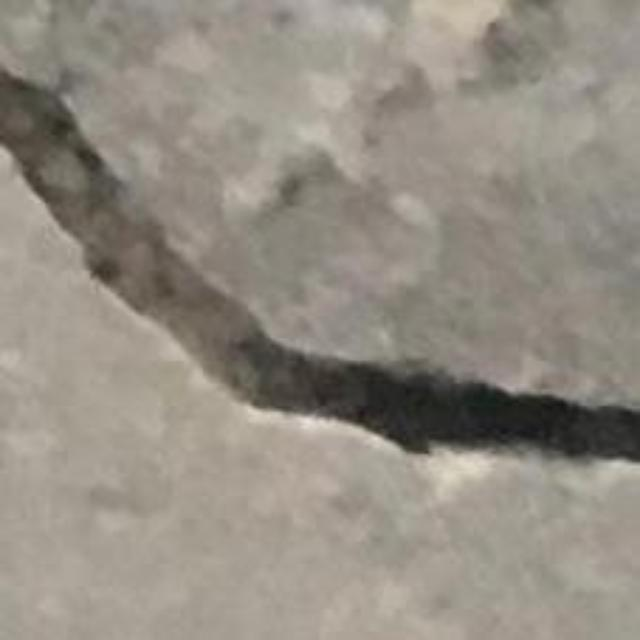crack: (0, 68, 639, 462)
